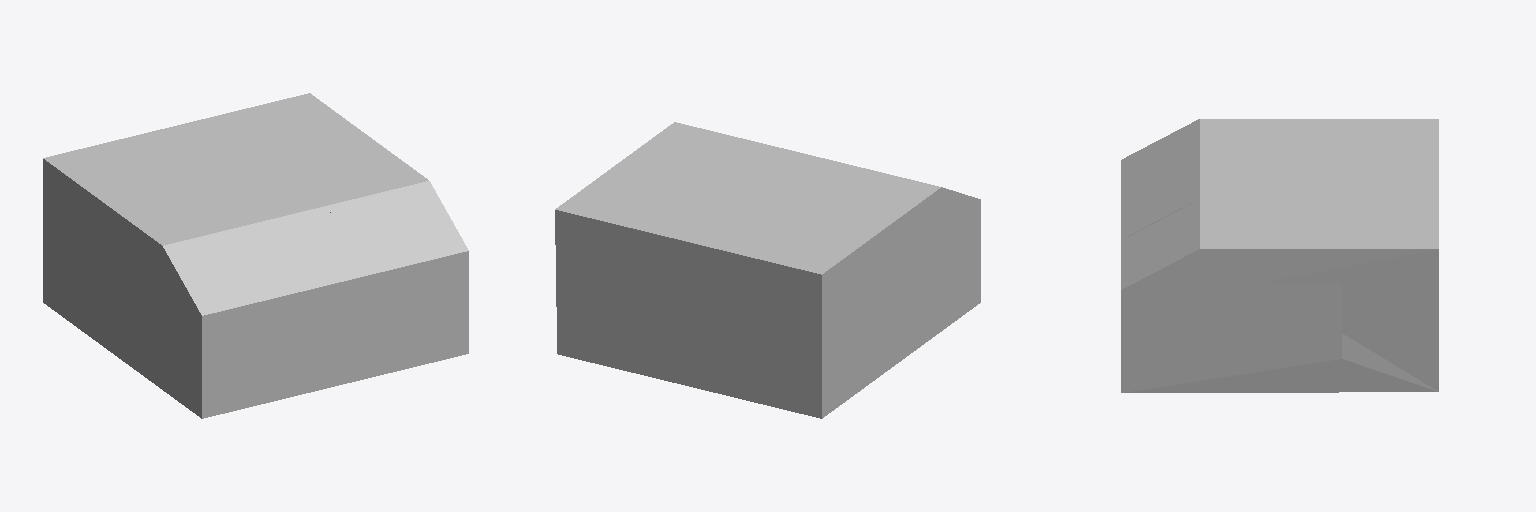
The model's file is room_proxy_UVed.obj.
3 views of the same model, side by side, from view 1: azimuth 30°, elevation 25°; view 2: azimuth 150°, elevation 25°; view 3: azimuth 270°, elevation 25° (orthographic).
Parts seen in each view (by area): view 1: room_proxy:pCube14 polySurface3 polySurface1, room_proxy:pCube14 polySurface1 polySurface4; view 2: room_proxy:pCube14 polySurface3 polySurface1; view 3: room_proxy:pCube14 polySurface3 polySurface1, room_proxy:pCube14 polySurface1 polySurface4.
Part boxes in pixels (x1,y1,x2,y2): room_proxy:pCube14 polySurface3 polySurface1: (43,93,468,418); room_proxy:pCube14 polySurface1 polySurface4: (331,213,426,269); room_proxy:pCube14 polySurface3 polySurface1: (555,122,980,418); room_proxy:pCube14 polySurface3 polySurface1: (1121,119,1438,392); room_proxy:pCube14 polySurface1 polySurface4: (1128,204,1190,266).
Bounding box in the file's own units: 164 × 84.59 × 169.